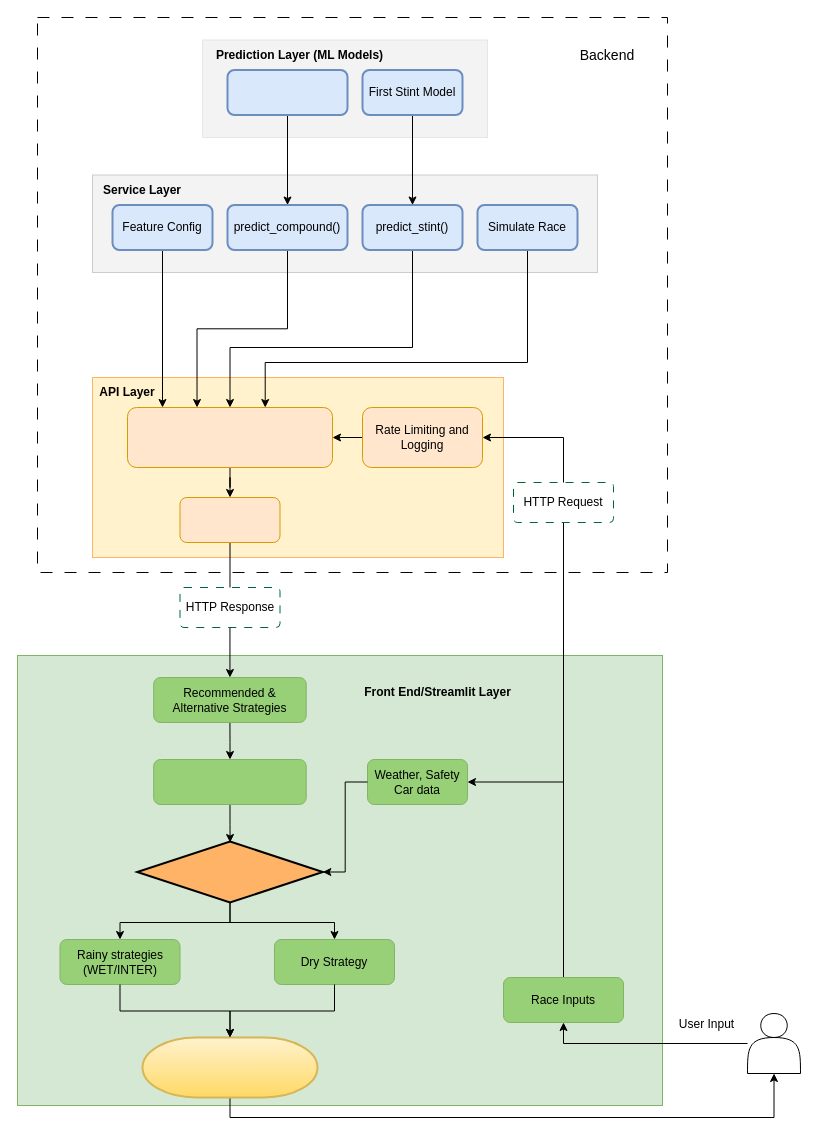
Some shapes in this 818 by 1143 pixel diagram are drawn without their labels. Here are the shapes that lost their labels. From the top down, the centre of each, then its label:
At [287,92]: "Starting Compound model".
At [229,437]: "Pydantic Validation".
At [229,519]: "Endpoints".
At [229,781]: "Compare Predicted Race Times".
At [229,871]: "Decide On Starting Strategy".
At [229,1067]: "Streamlit Strategy Dashboard".
